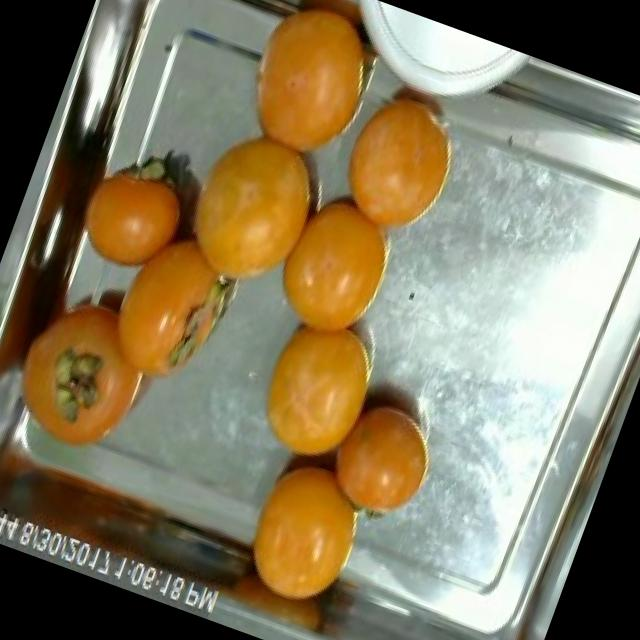Fruit: (140, 93, 353, 324), (312, 54, 496, 264), (212, 0, 405, 190), (216, 436, 390, 630), (255, 166, 423, 358), (0, 300, 173, 485), (232, 292, 396, 483), (64, 130, 215, 302), (307, 370, 458, 542)
